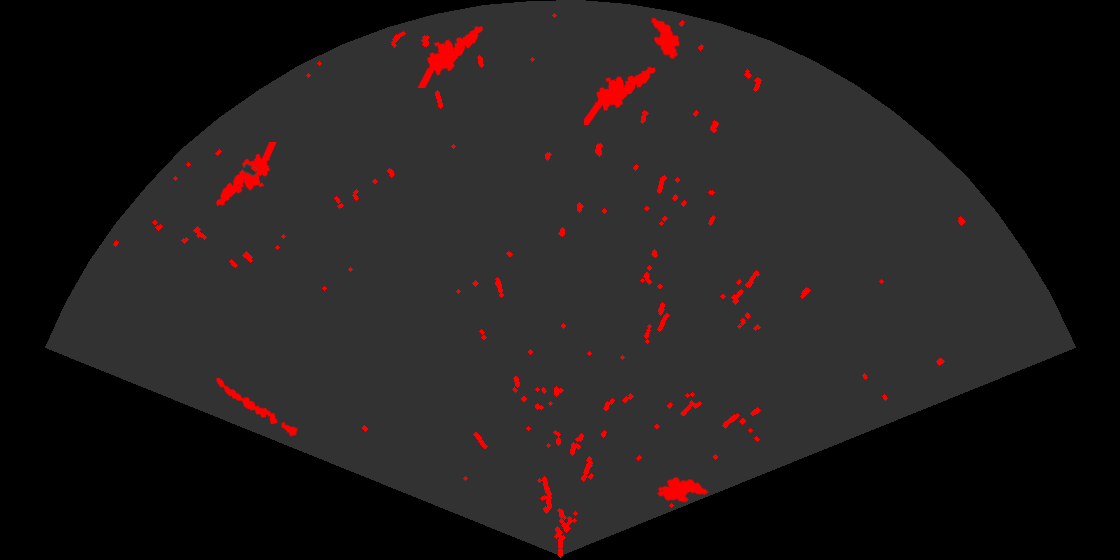AUV: (655, 475, 710, 504), (649, 16, 681, 61)
chain: (215, 376, 299, 438)
frogman: (416, 24, 485, 88), (584, 65, 657, 125), (215, 142, 278, 208)
